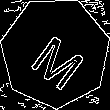M_NE: (22, 18, 88, 87)
